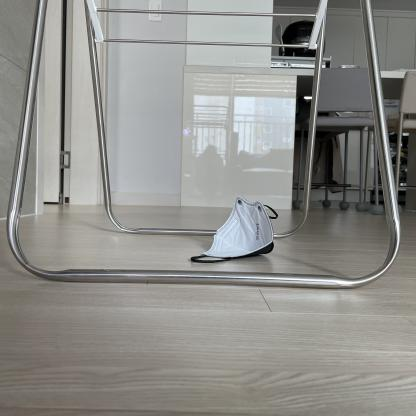bar: (46, 269, 363, 292)
mask: (193, 197, 280, 265)
